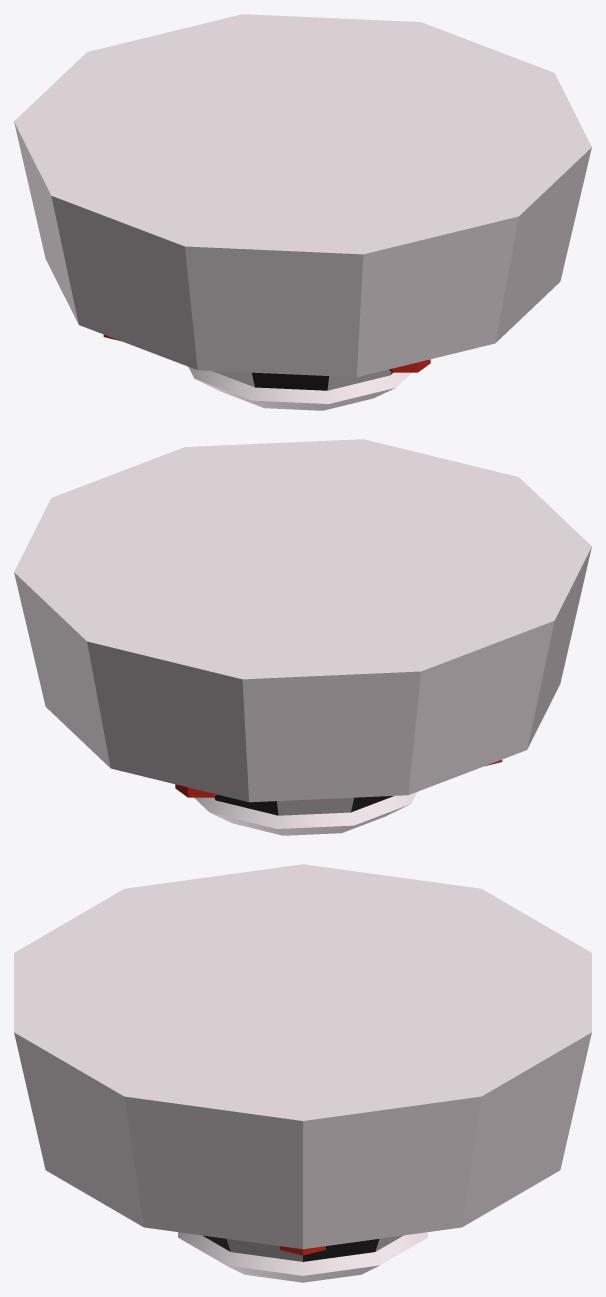
File: smoke.glb
3 renders of one model, top to bottom at view 1: azimuth 30°, elevation 25°; view 2: azimuth 150°, elevation 25°; view 3: azimuth 270°, elevation 25°, orthographic. The views are drawn at different scales.
Visible parts, largest first — view 1: mesh_smokedetector_01; view 2: mesh_smokedetector_01; view 3: mesh_smokedetector_01.
Part boxes in pixels (x1,y1,x2,y2): mesh_smokedetector_01: (14, 14, 591, 410); mesh_smokedetector_01: (14, 439, 591, 835); mesh_smokedetector_01: (14, 864, 591, 1282).
Size of the model in its own units: 0.41 by 0.1846 by 0.3899.
Materials: 1 (1 with a texture image).
